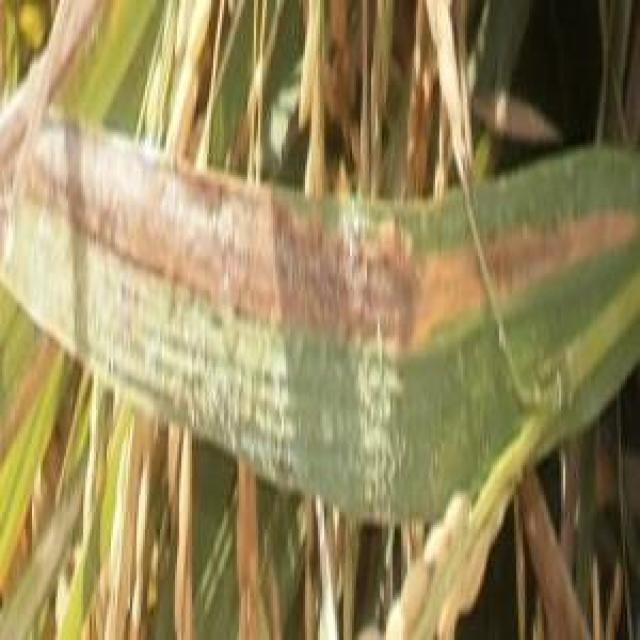Bacterial_Blight: (0, 103, 640, 354)
